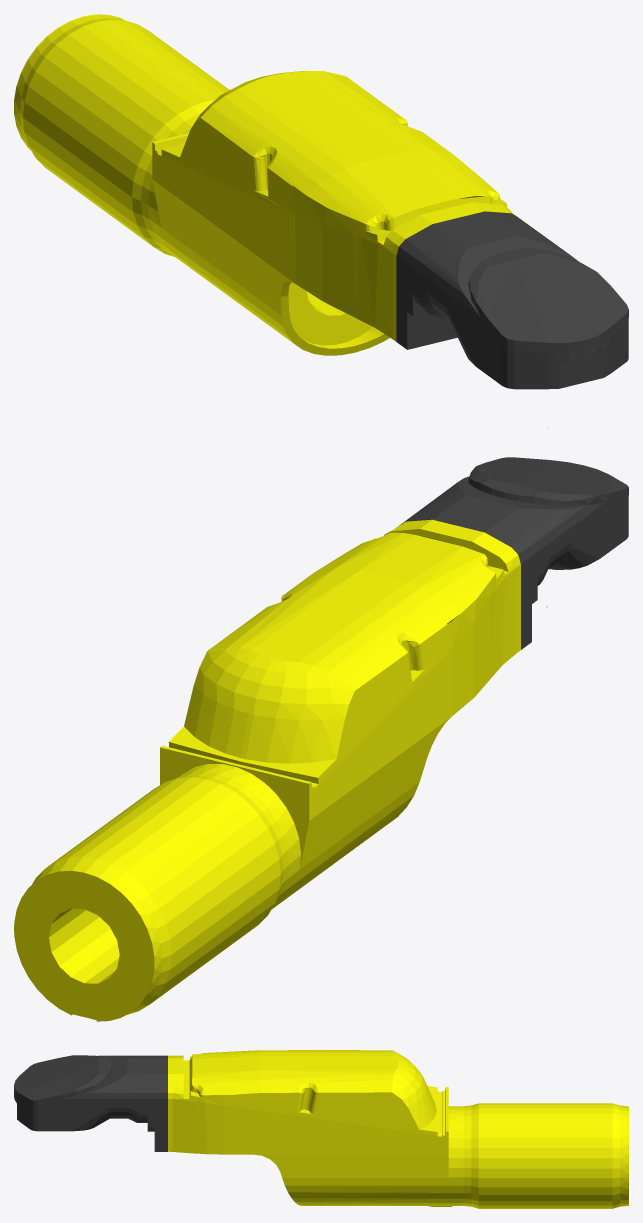
The picture shows the model from 3 angles, top to bottom: view 1: azimuth 30°, elevation 25°; view 2: azimuth 150°, elevation 25°; view 3: azimuth 270°, elevation 25°; orthographic projection. The views are drawn at different scales.
Parts seen in each view (by area): view 1: node; view 2: node; view 3: node.
Boxes of the visible parts, box(x1,y1,x2,y2) form: node: box(14, 14, 628, 428); node: box(14, 457, 628, 1021); node: box(14, 1050, 628, 1208).
Bounding box in the file's own units: 123 × 176 × 696.
